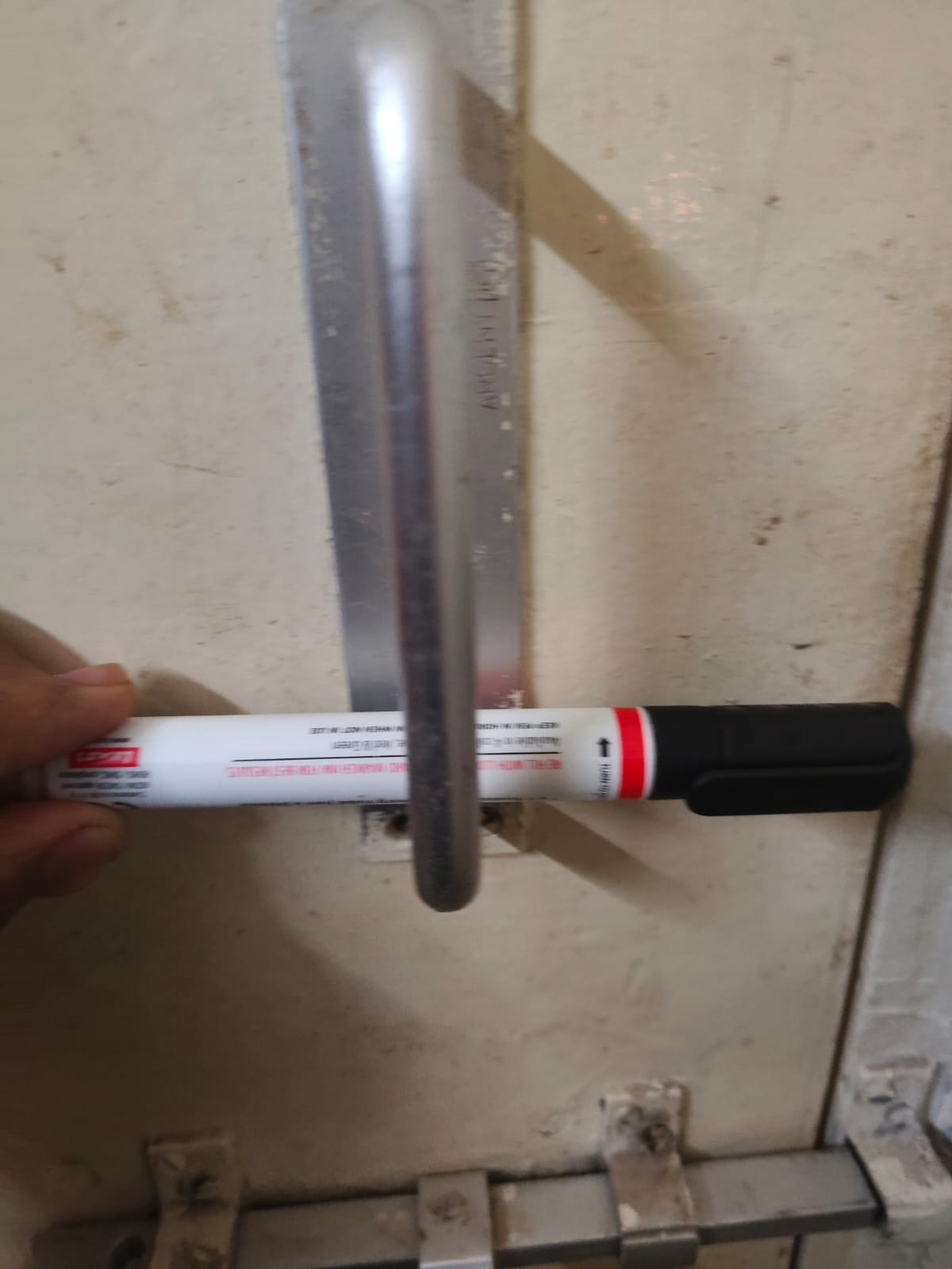case: (31, 679, 933, 851)
